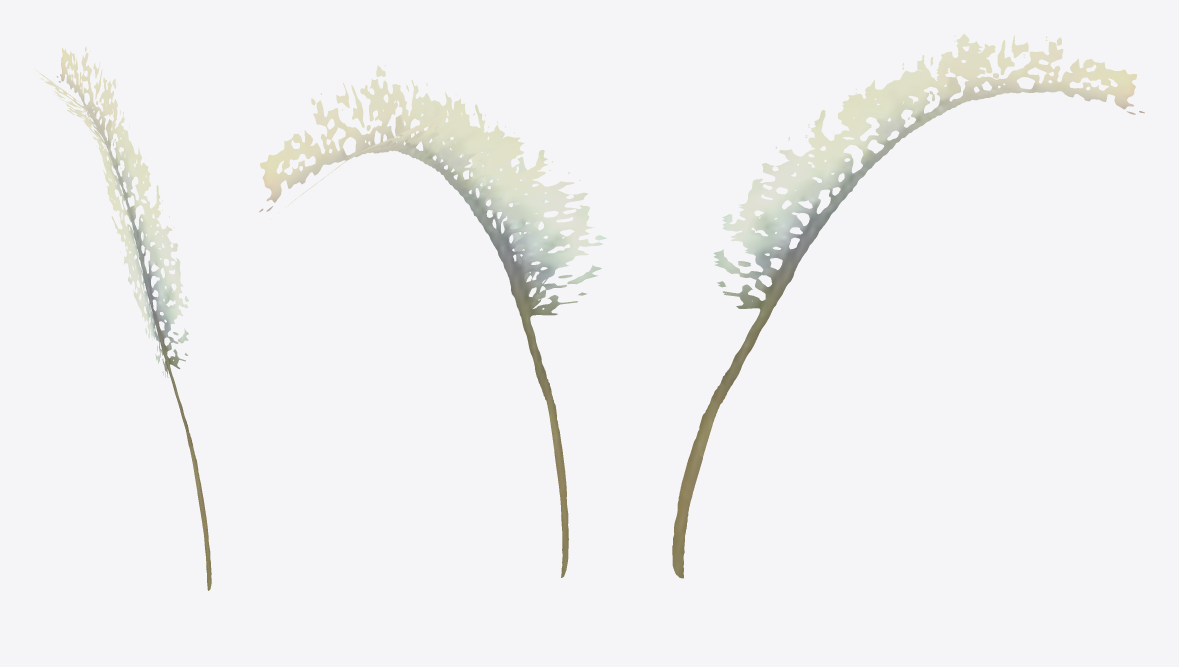
3 renders of one model, left to right at view 1: azimuth 30°, elevation 25°; view 2: azimuth 150°, elevation 25°; view 3: azimuth 270°, elevation 25°, orthographic. The views are drawn at different scales.
Bounding box in the file's own units: 0.8818 × 4.9 × 3.46.
1 material, 1 textured.
